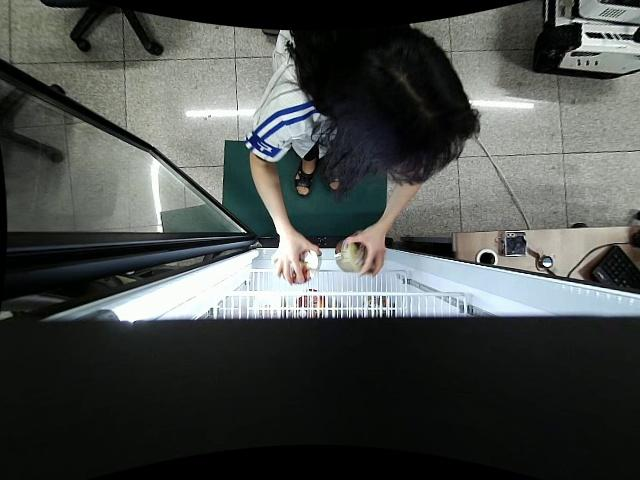00_hand: (271, 233, 321, 283), (343, 225, 387, 274)
03_chapagetti_L: (336, 235, 377, 274), (285, 249, 320, 285)
